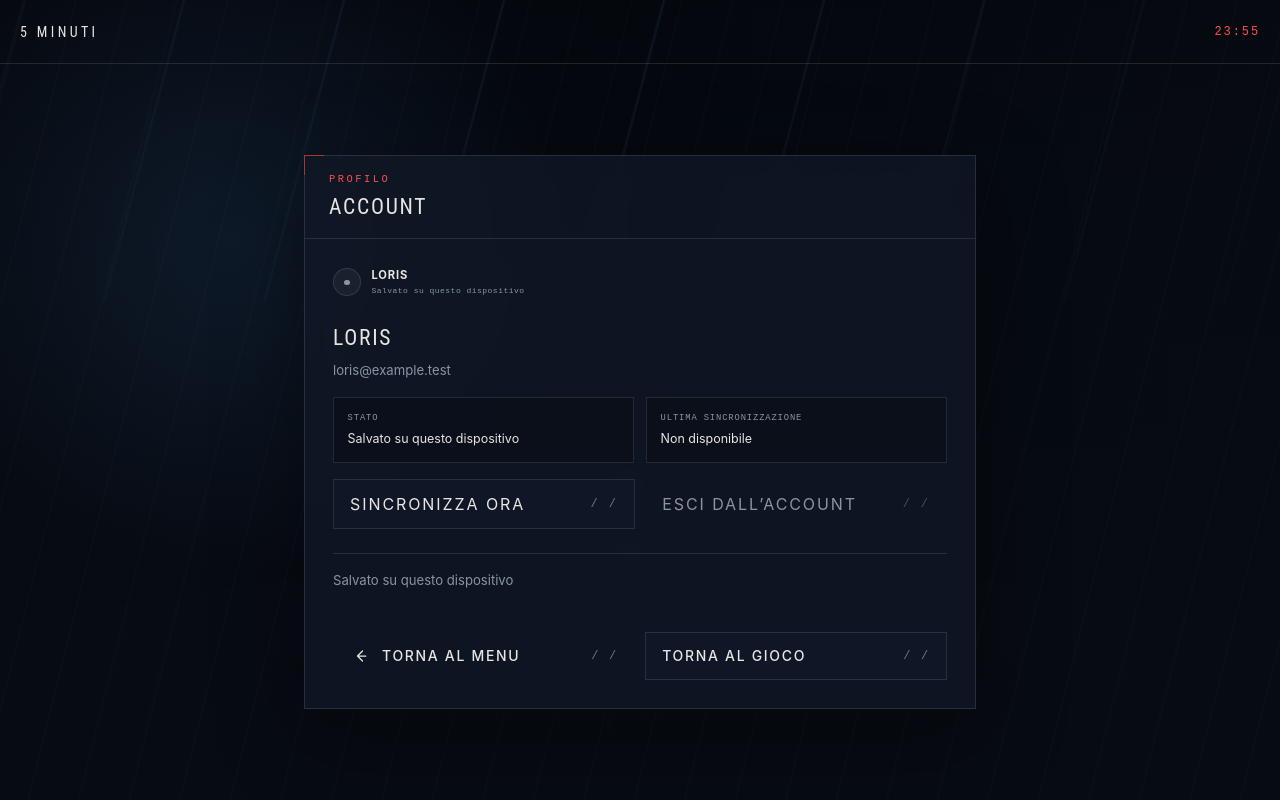
Test: account UI › logout non cancella il salvataggio locale
Click the button "Esci dall’account / /": [796, 504] box x1=645 y1=479 x2=947 y2=529
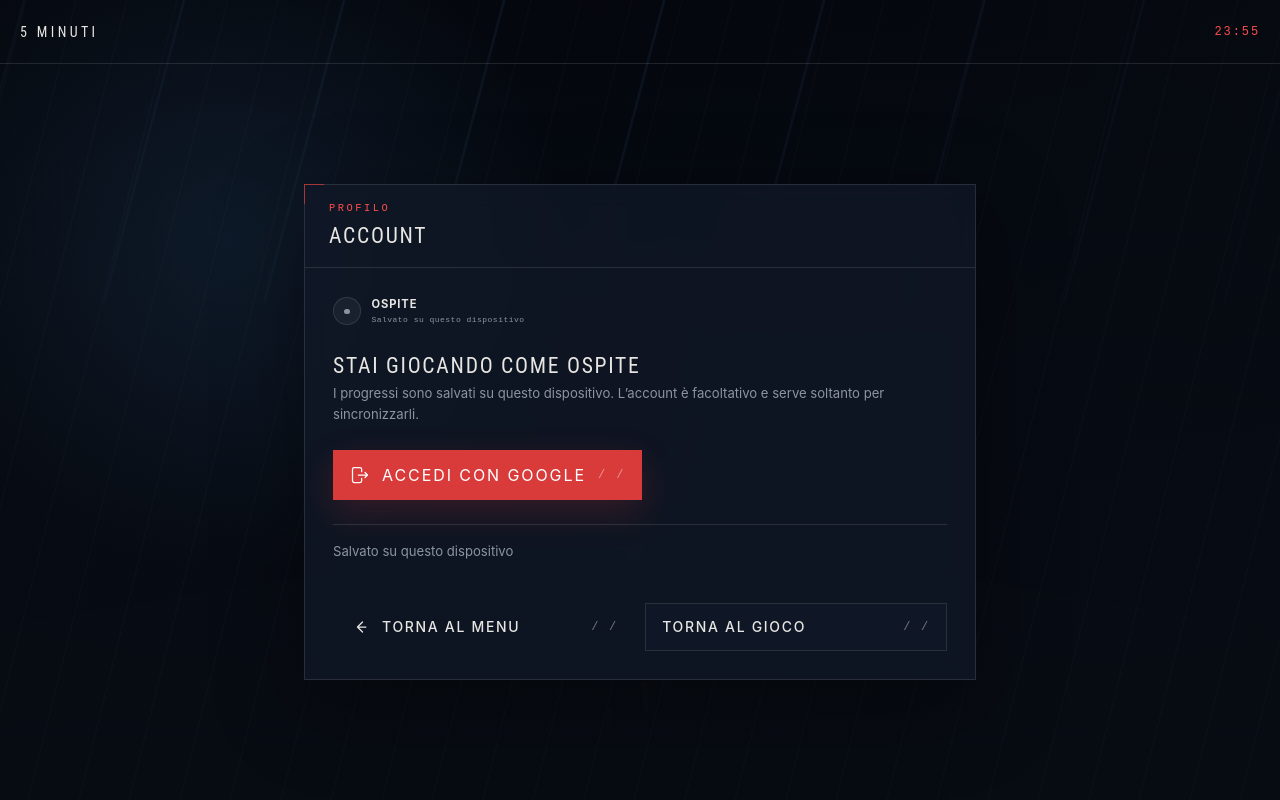
Check: the heading "Stai giocando come ospite" is shown, box x1=333 y1=353 x2=640 y2=378
